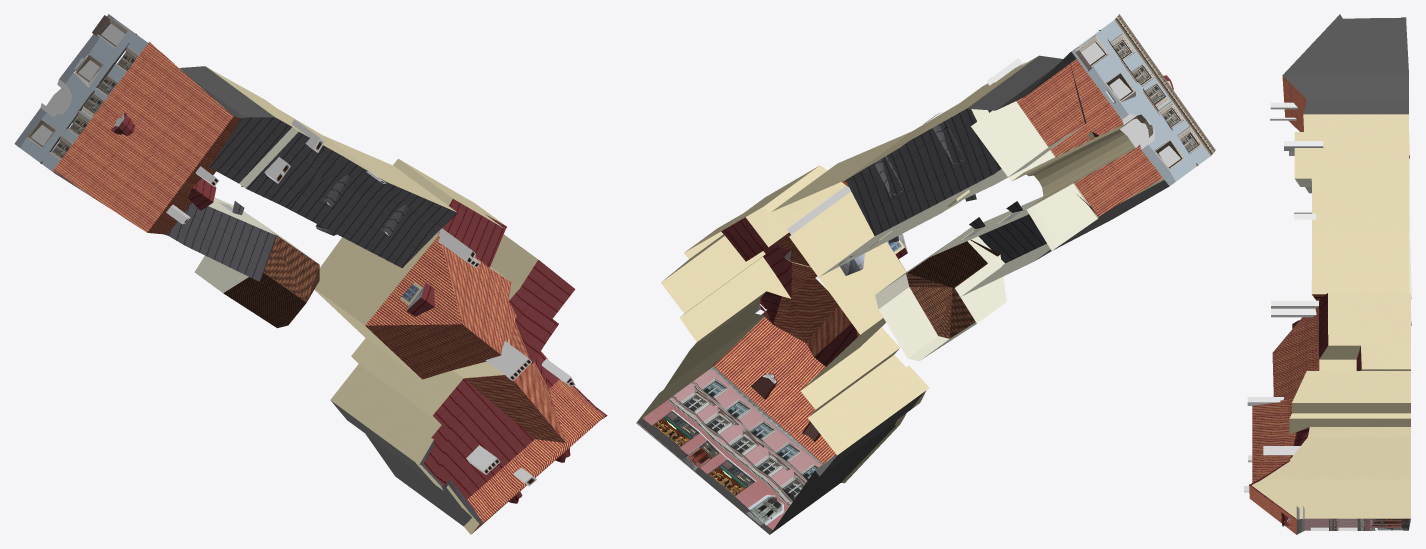
File: Pikk_11_Lai_10-origo.obj
3 views of the same model, side by side, from view 1: azimuth 30°, elevation 25°; view 2: azimuth 150°, elevation 25°; view 3: azimuth 270°, elevation 25° (orthographic). The views are drawn at different scales.
Parts seen in each view (by area): view 1: Pikk_11_Lai_10; view 2: Pikk_11_Lai_10; view 3: Pikk_11_Lai_10.
Part boxes in pixels (<box>): Pikk_11_Lai_10: <box>14,14,607,534</box>; Pikk_11_Lai_10: <box>636,14,1215,534</box>; Pikk_11_Lai_10: <box>1244,14,1411,534</box>.
Size of the model in its own units: 55.62 by 56 by 20.63.
